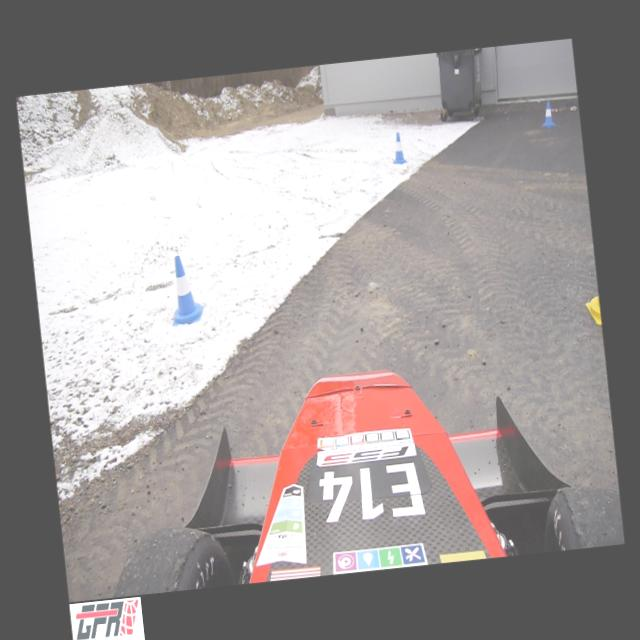blue_cone: (166, 254, 204, 325), (390, 132, 406, 164), (539, 100, 555, 128)
